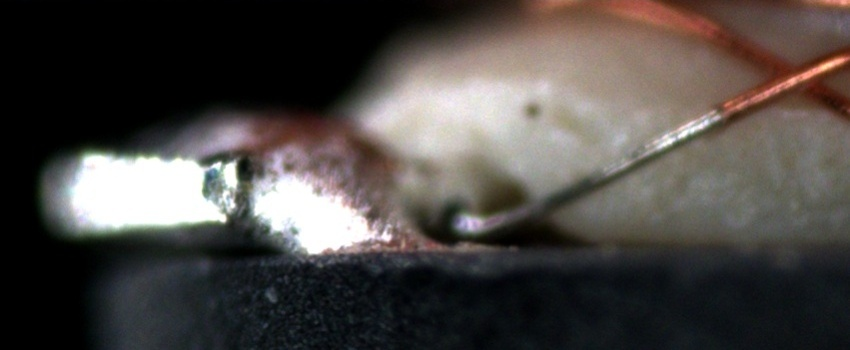CL: (750, 43, 842, 108)
TS: (457, 107, 724, 236)
